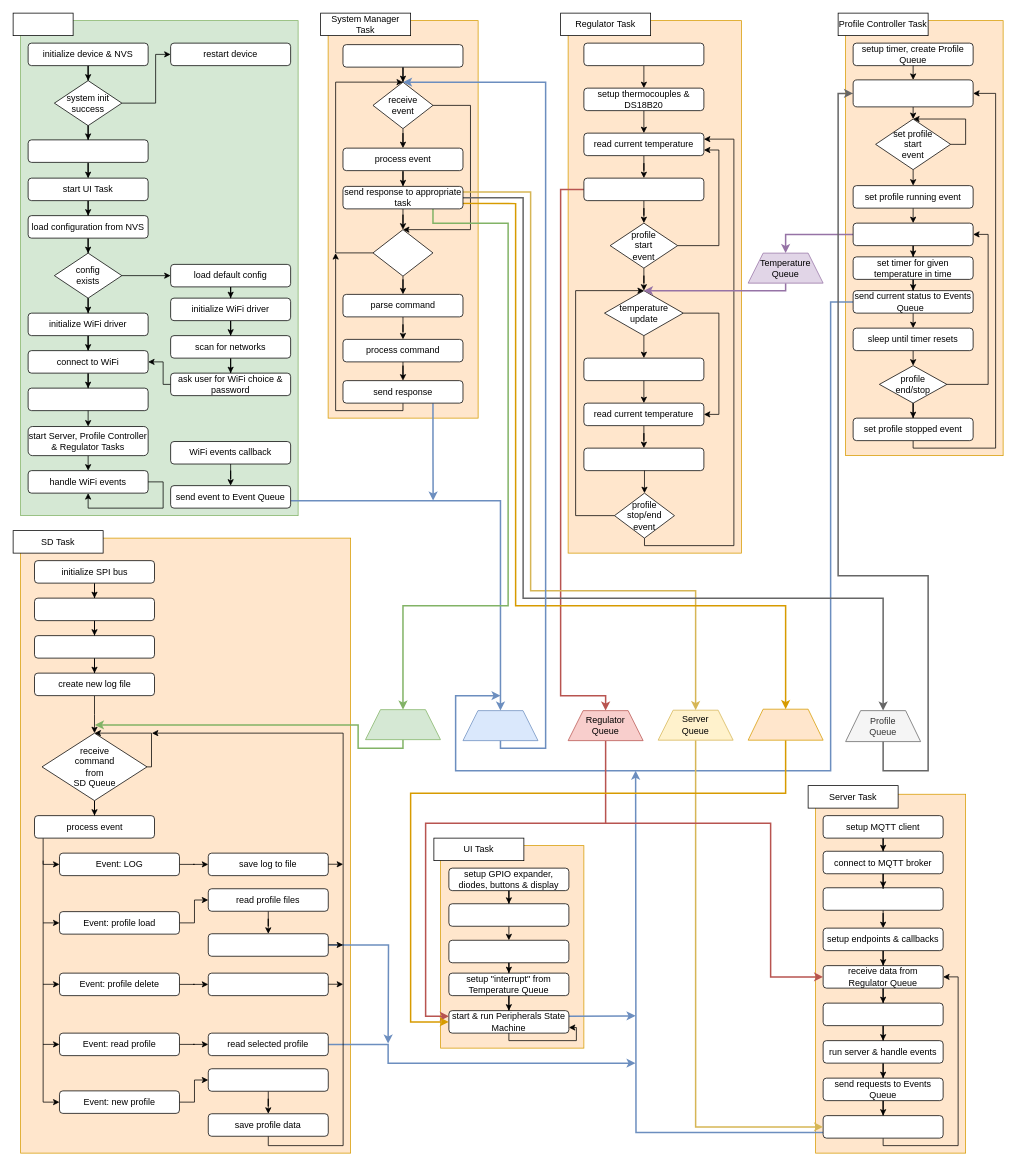
Some shapes in this 1016 by 1166 pixel diagram are drawn without their labels. Each missing label, with the centre of its shape:
connect to MicroSD card: (x=94, y=609)
connect to Server: (x=882, y=898)
create Events Queue: (x=402, y=55)
create new file: (x=268, y=1079)
delete profile: (x=268, y=984)
Event Queue: (x=500, y=725)
MAIN: (x=42, y=24)
mount filesystem: (x=94, y=646)
receive command: (x=402, y=252)
receive task responses from Server Queue: (x=882, y=1126)
regulate to/maintain given temperature: (x=643, y=459)
SD Queue: (x=402, y=724)
send data to broker: (x=882, y=1014)
send data to Regulator Queue: (x=643, y=189)
send profiles separately to Event Queue: (x=268, y=944)
send temperature update to Temperature Queue: (x=912, y=234)
setup "interrupt" from Events Queue: (x=508, y=951)
setup buttons interrupts: (x=508, y=914)
setup GPIO & relays: (x=643, y=54)
start System Manager Task: (x=87, y=150)
synchronize time with NTP server: (x=87, y=399)
UI Queue: (x=785, y=724)
update desired temperature: (x=643, y=369)
wait for profile update from Events Queue: (x=912, y=93)
